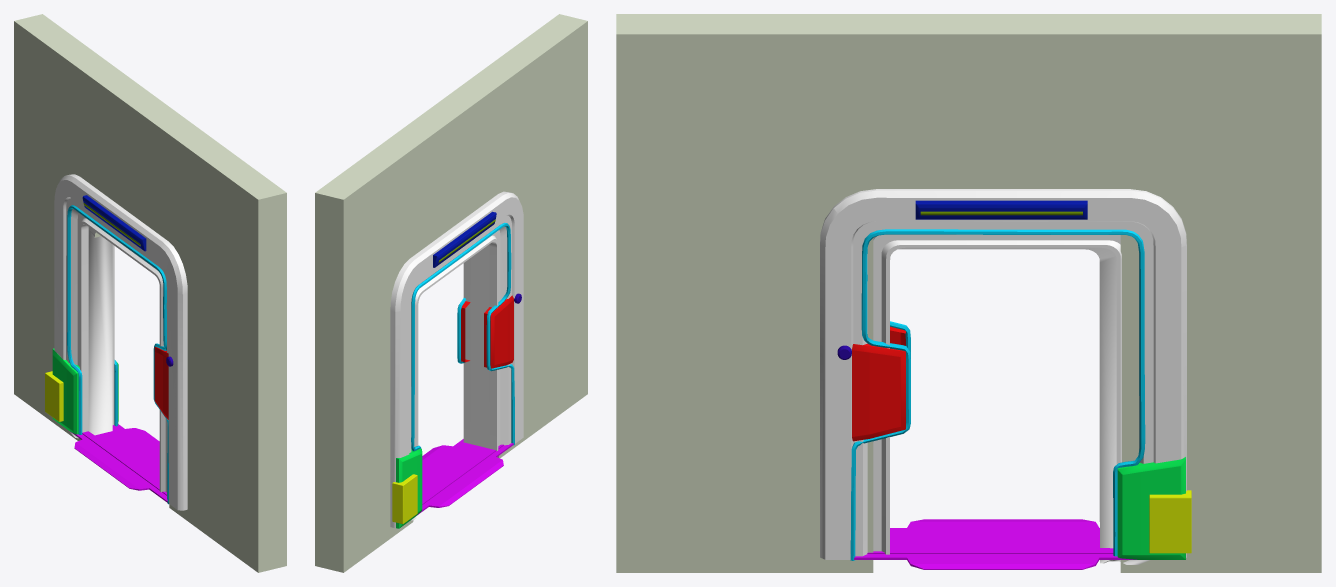
File: door.fbx
The picture shows the model from 3 angles, left to right: view 1: azimuth 30°, elevation 25°; view 2: azimuth 150°, elevation 25°; view 3: azimuth 270°, elevation 25°; orthographic projection. The views are drawn at different scales.
Visible parts, largest first — view 1: WALL BACK, Door 1_Lo; view 2: WALL BACK, Door 1_Lo; view 3: WALL BACK, Door 1_Lo.
Boxes of the visible parts, x1,y1,x2,y2 form: WALL BACK: (14, 14, 286, 572); Door 1_Lo: (45, 174, 187, 510); WALL BACK: (315, 14, 587, 572); Door 1_Lo: (390, 191, 523, 528); WALL BACK: (616, 14, 1321, 572); Door 1_Lo: (820, 189, 1191, 569).
Bounding box in the file's own units: 78.34 × 396 × 470.
